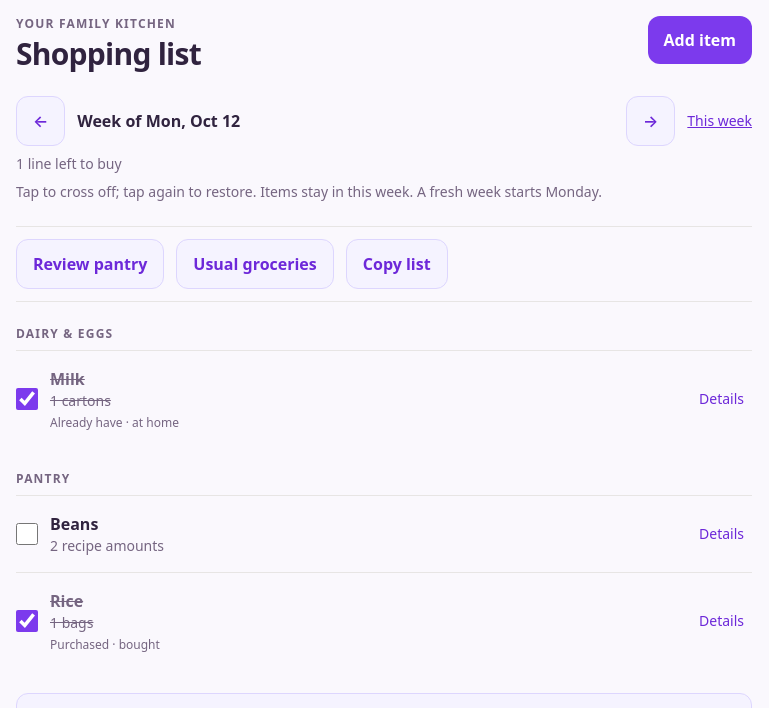
compact shopping › keeps checked purchases and pantry items visible after loading, with one-tap restoration
Expected: the checkbox named "Purchased Rice" is shown, [16,610,38,632]
Click the checkbox named "Already have Milk" at coordinates (27, 399), box [16,388,38,410]
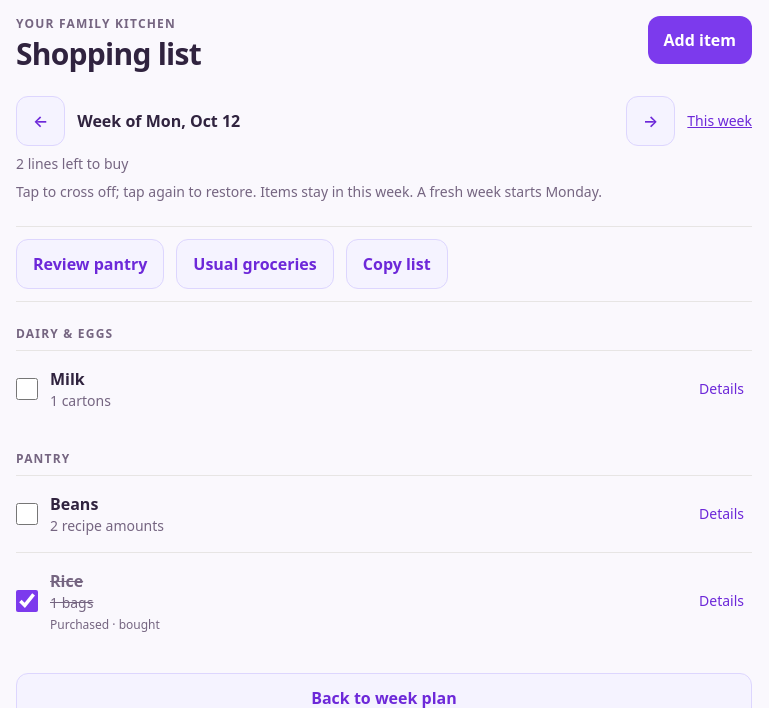
Result: the checkbox named "Purchased Milk" is shown at [16,378,38,400]
